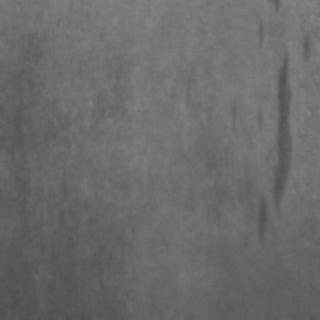inclusion: (239, 40, 299, 244)
